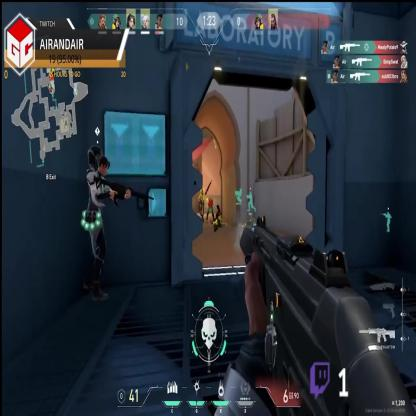enemy: (198, 188, 204, 218)
enemy_head: (200, 189, 204, 196)
